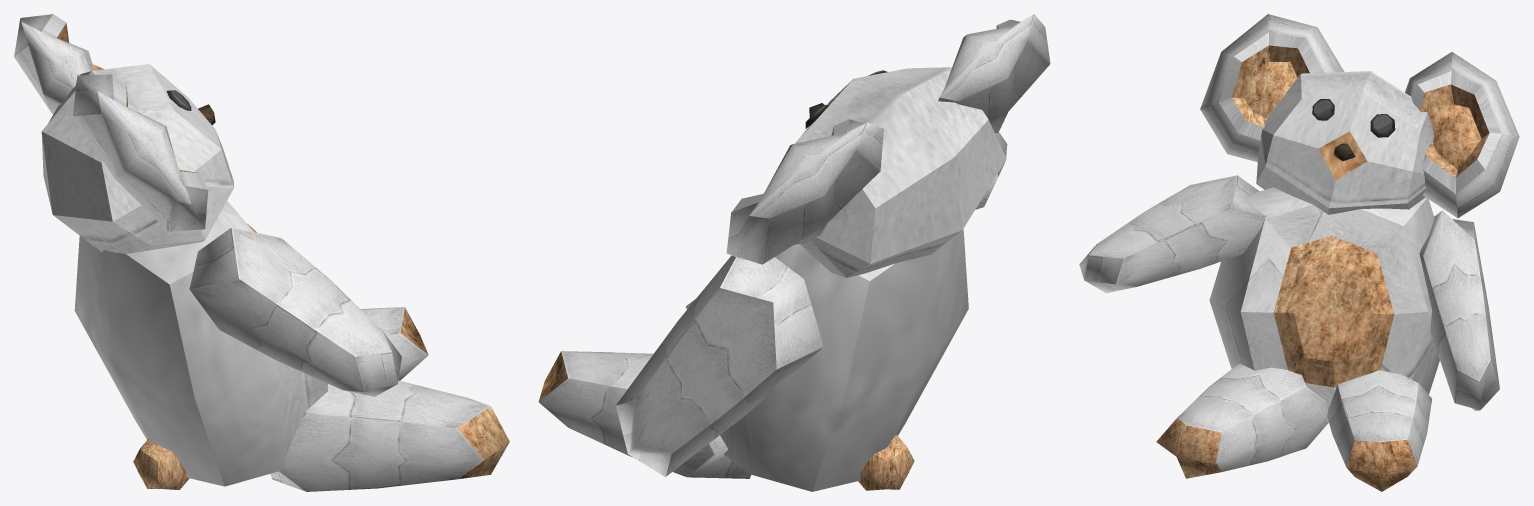
Rendered from tedy.FBX.
3 renders of one model, left to right at view 1: azimuth 30°, elevation 25°; view 2: azimuth 150°, elevation 25°; view 3: azimuth 270°, elevation 25°, orthographic. The views are drawn at different scales.
Parts seen in each view (by area): view 1: Box005, Box003, Sphere001, Box004, Object001, Box006; view 2: Box003, Box005, Sphere001, Box004, Box006, Object001; view 3: Box005, Box003, Sphere001, Box004, Object002, Object004, Object001, Object003, Cylinder001.
Part boxes in pixels (box(x1,y1,x2,y2)): Box005: box(189, 227, 490, 491); Box003: box(74, 201, 327, 486); Sphere001: box(41, 64, 233, 253); Box004: box(14, 14, 208, 231); Object001: box(400, 307, 509, 479); Box006: box(133, 438, 189, 490); Box003: box(720, 229, 968, 491); Box005: box(539, 132, 1007, 478); Sphere001: box(795, 67, 1006, 277); Box004: box(726, 14, 1050, 264); Box006: box(858, 434, 914, 490); Object001: box(538, 351, 567, 401); Box005: box(1079, 175, 1499, 471); Box003: box(1209, 187, 1439, 421); Sphere001: box(1256, 71, 1433, 214); Box004: box(1200, 14, 1519, 218); Object002: box(1273, 235, 1394, 387); Object004: box(1232, 45, 1489, 177); Object001: box(1156, 417, 1417, 491); Object003: box(1318, 131, 1367, 180); Cylinder001: box(1312, 99, 1395, 137).
Bounding box in the file's own units: 168 × 184 × 208.
4 materials, 4 textured.
